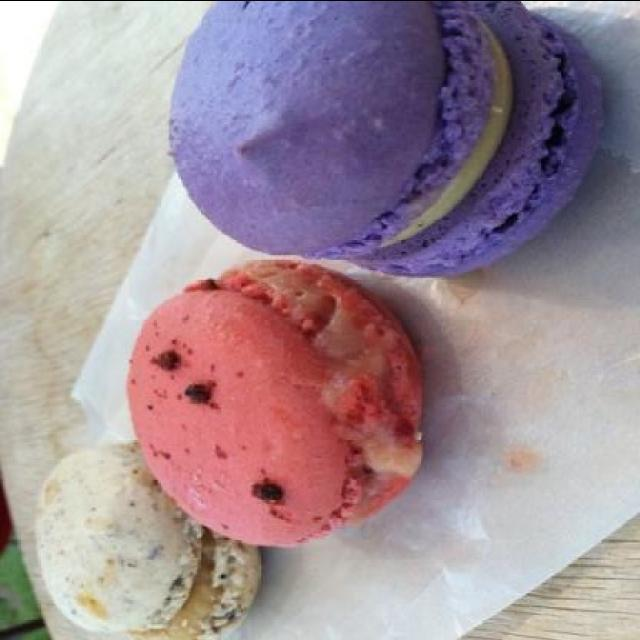Macaron: (28, 1, 620, 634)
